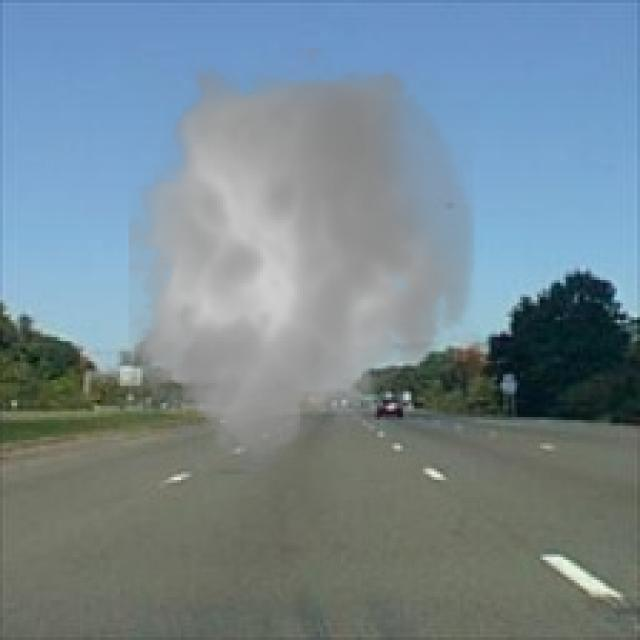Smoke: (111, 48, 488, 474)
